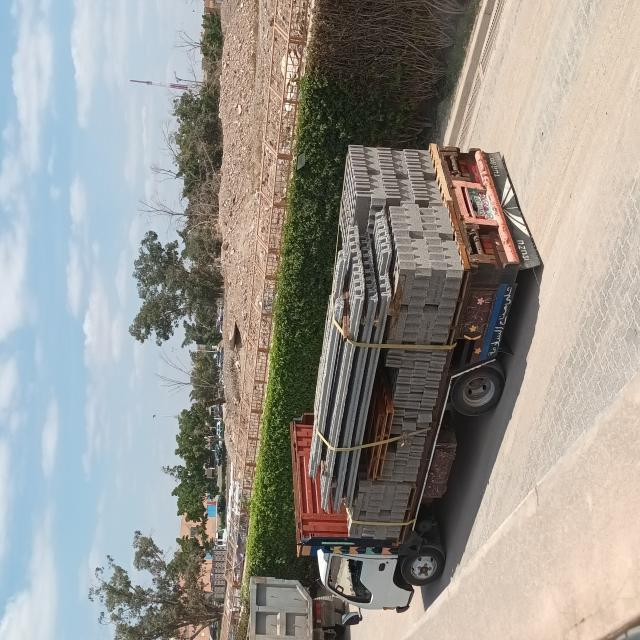bricks: (309, 146, 463, 540)
